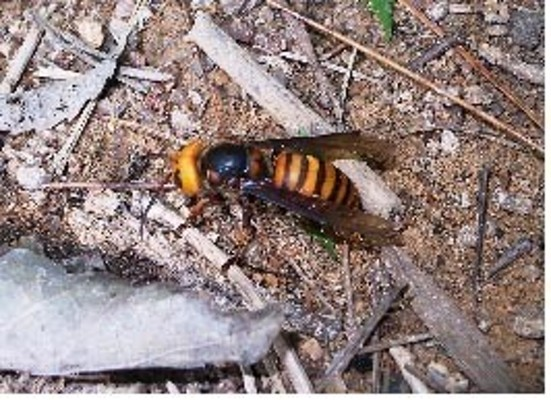asian_giant_hornet: (134, 131, 402, 247)
